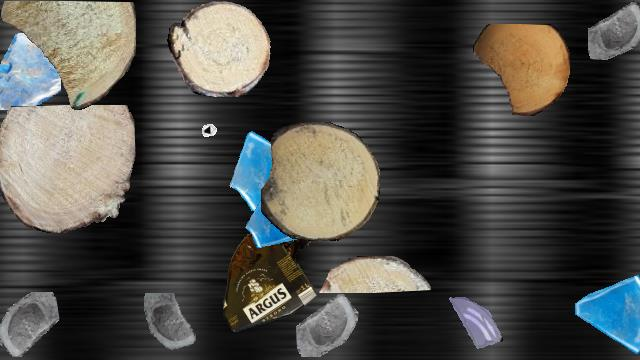glass: (227, 124, 319, 216), (571, 269, 640, 359), (0, 33, 60, 109), (139, 293, 205, 359), (245, 190, 309, 254), (296, 294, 358, 356), (0, 292, 59, 356), (446, 295, 504, 353), (588, 1, 640, 61), (637, 240, 640, 316)
metal: (199, 107, 237, 145)
plastic: (223, 224, 317, 332), (0, 1, 7, 139)
wood: (0, 105, 135, 233), (0, 1, 136, 109), (261, 122, 379, 240), (167, 1, 271, 97), (473, 24, 569, 116), (317, 256, 431, 292)
